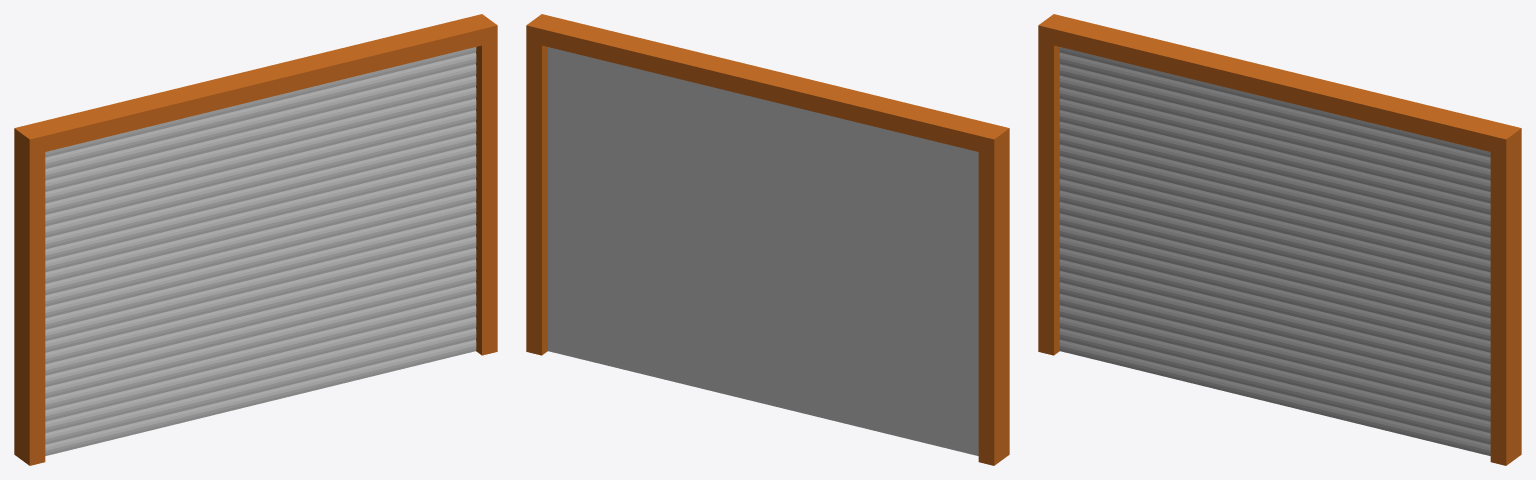
Rendered from Porte_De_Garage.fbx.
3 renders of one model, left to right at view 1: azimuth 30°, elevation 25°; view 2: azimuth 150°, elevation 25°; view 3: azimuth 330°, elevation 25°, orthographic.
Parts seen in each view (by area): view 1: Porte, Mur; view 2: Porte, Mur; view 3: Porte, Mur.
Boxes of the visible parts, x1=… form: Porte: x1=45, y1=47, x2=476, y2=455; Mur: x1=14, y1=14, x2=497, y2=465; Porte: x1=548, y1=47, x2=978, y2=455; Mur: x1=526, y1=14, x2=1009, y2=465; Porte: x1=1059, y1=47, x2=1490, y2=455; Mur: x1=1038, y1=14, x2=1521, y2=465.
Size of the model in its own units: 396 by 264 by 22.78.
